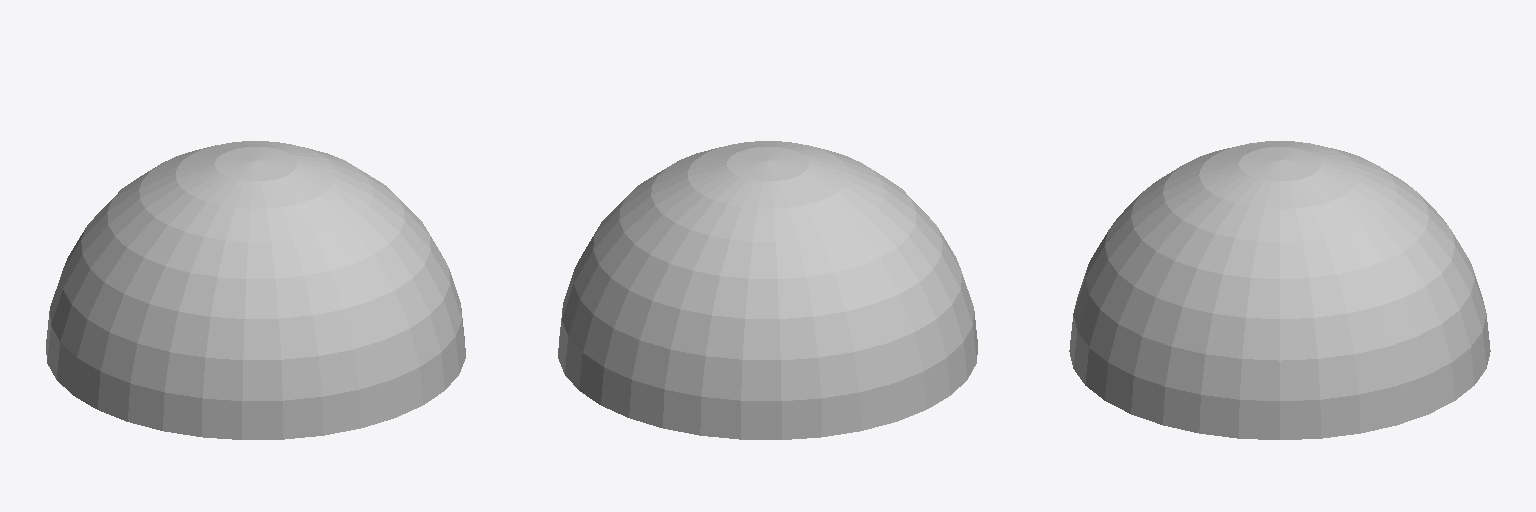
Rendered from SalleFin2.obj.
The picture shows the model from 3 angles: view 1: azimuth 30°, elevation 25°; view 2: azimuth 150°, elevation 25°; view 3: azimuth 270°, elevation 25°; orthographic projection.
Parts seen in each view (by area): view 1: Cube.001_Cube; view 2: Cube.001_Cube; view 3: Cube.001_Cube.
Boxes of the visible parts, <box> form: Cube.001_Cube: <box>46,141,465,439</box>; Cube.001_Cube: <box>558,141,977,439</box>; Cube.001_Cube: <box>1069,141,1490,439</box>.
Size of the model in its own units: 240 by 120 by 240.